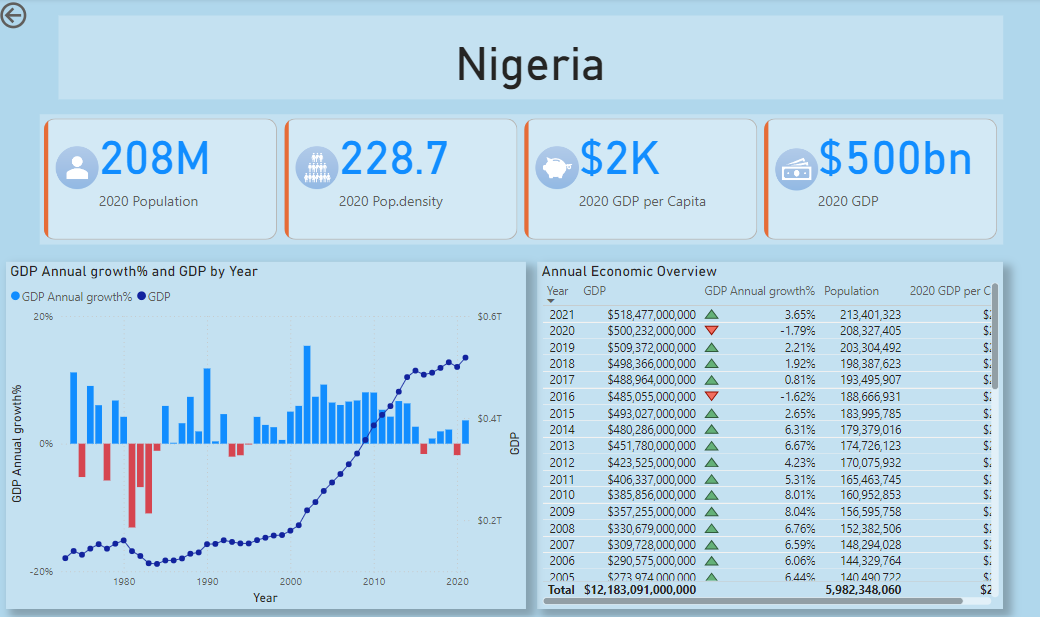

Layout of this report page (visuals, bound fields, positions):
{"tool":"powerbi","page":{"name":"country detail","canvas":[1280,720],"ordinal":1},"visuals":[{"type":"actionButton","box":[0,0,100,40],"z":0},{"type":"tableEx","title":"Annual Economic Overview","fields":{"Values":["Indicators.Year","_Measure.GDP","_Measure.GDP Annual growth%","_Measure.Population","_Measure.2020 GDP per Capita"]},"box":[624.4,304.4,537.6,401.1],"z":1000},{"type":"lineStackedColumnComboChart","fields":{"Category":["Indicators.Year"],"Y2":["_Measure.GDP"],"Y":["_Measure.GDP Annual growth%"]},"box":[11.4,304.4,600.2,401.1],"z":2000},{"type":"card","fields":{"Values":["_Measure.Selected country"]},"box":[71.4,20,1090,97.1],"z":3000},{"type":"cardVisual","fields":{"Data":["_Measure.2020 Population","_Measure.2020 Pop.density","_Measure.2020 GDP per Capita","_Measure.2020 GDP"]},"box":[49.8,133.7,1112.2,150.8],"z":4000}]}

Visuals, with their boxes on the page's 1280x720 design canvas (x1, y1, x2, y2). These are canvas units, not pixel positions in the 1040x617 screenshot, which may show the page scaled, cropped or inside an application window:
actionButton: 0,0,100,40
"Annual Economic Overview" tableEx: 624,304,1162,706
lineStackedColumnComboChart - Indicators.Year x _Measure.GDP: 11,304,612,706
card - _Measure.Selected country: 71,20,1161,117
cardVisual - _Measure.2020 Population x _Measure.2020 Pop.density: 50,134,1162,284
